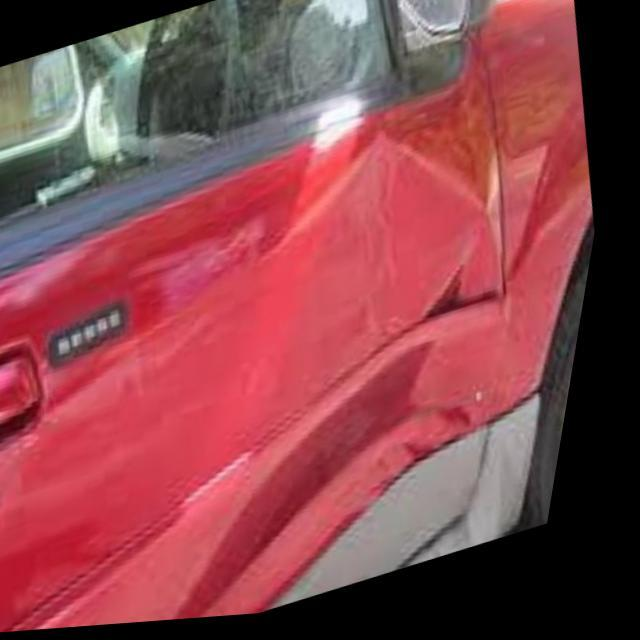dent: (183, 142, 517, 625)
